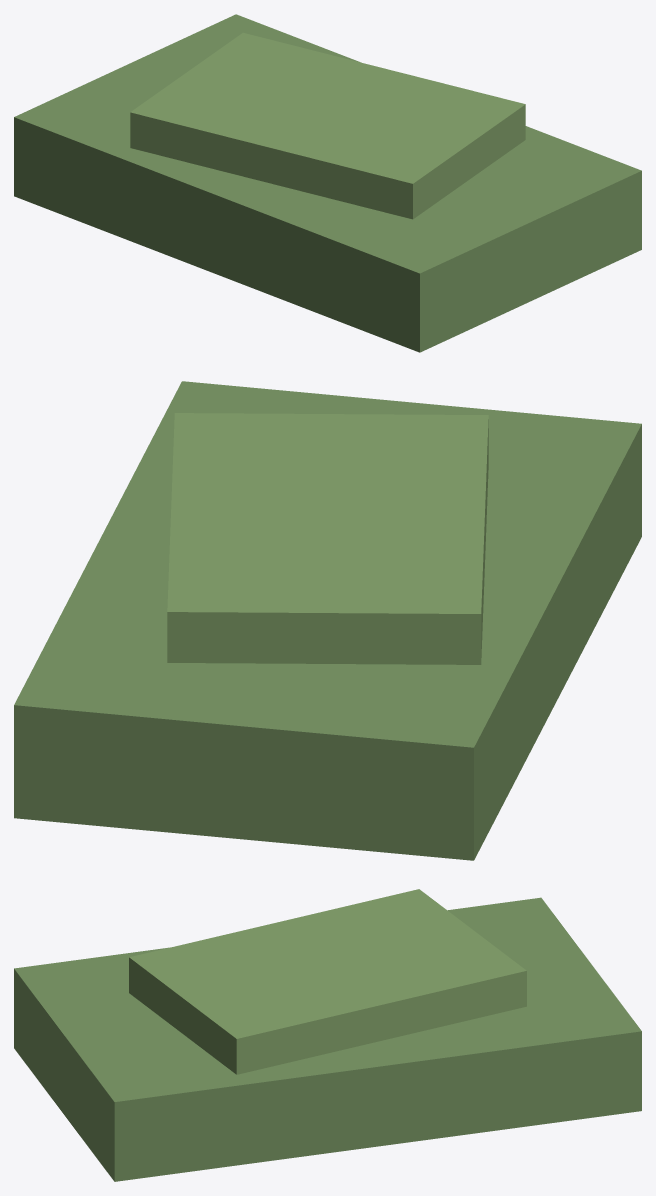
The model's file is structure.glb.
3 views of the same model, one above another, from view 1: azimuth 30°, elevation 25°; view 2: azimuth 150°, elevation 25°; view 3: azimuth 270°, elevation 25° (orthographic). The views are drawn at different scales.
Parts seen in each view (by area): view 1: Box1, Box2; view 2: Box1, Box2; view 3: Box1, Box2.
Part boxes in pixels (left/top/right/bottom): Box1: left=14, top=14, right=641, bottom=352; Box2: left=130, top=32, right=525, bottom=219; Box1: left=14, top=381, right=641, bottom=860; Box2: left=167, top=413, right=488, bottom=664; Box1: left=14, top=897, right=641, bottom=1181; Box2: left=129, top=889, right=526, bottom=1074.
Size of the model in its own units: 95.46 by 25.15 by 124.
